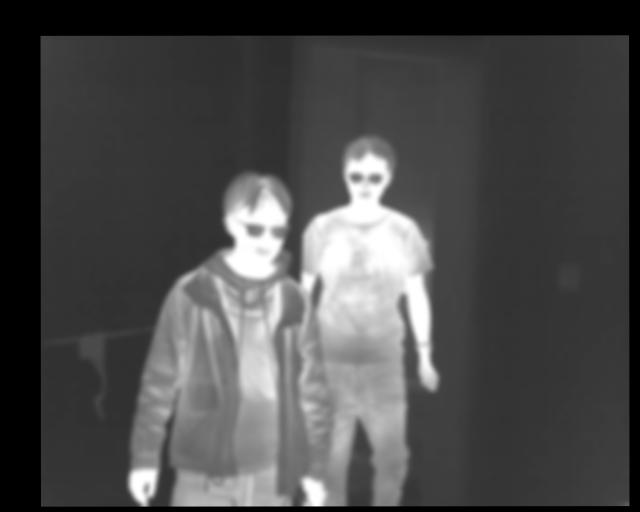face: (222, 168, 290, 263), (341, 133, 394, 208)
